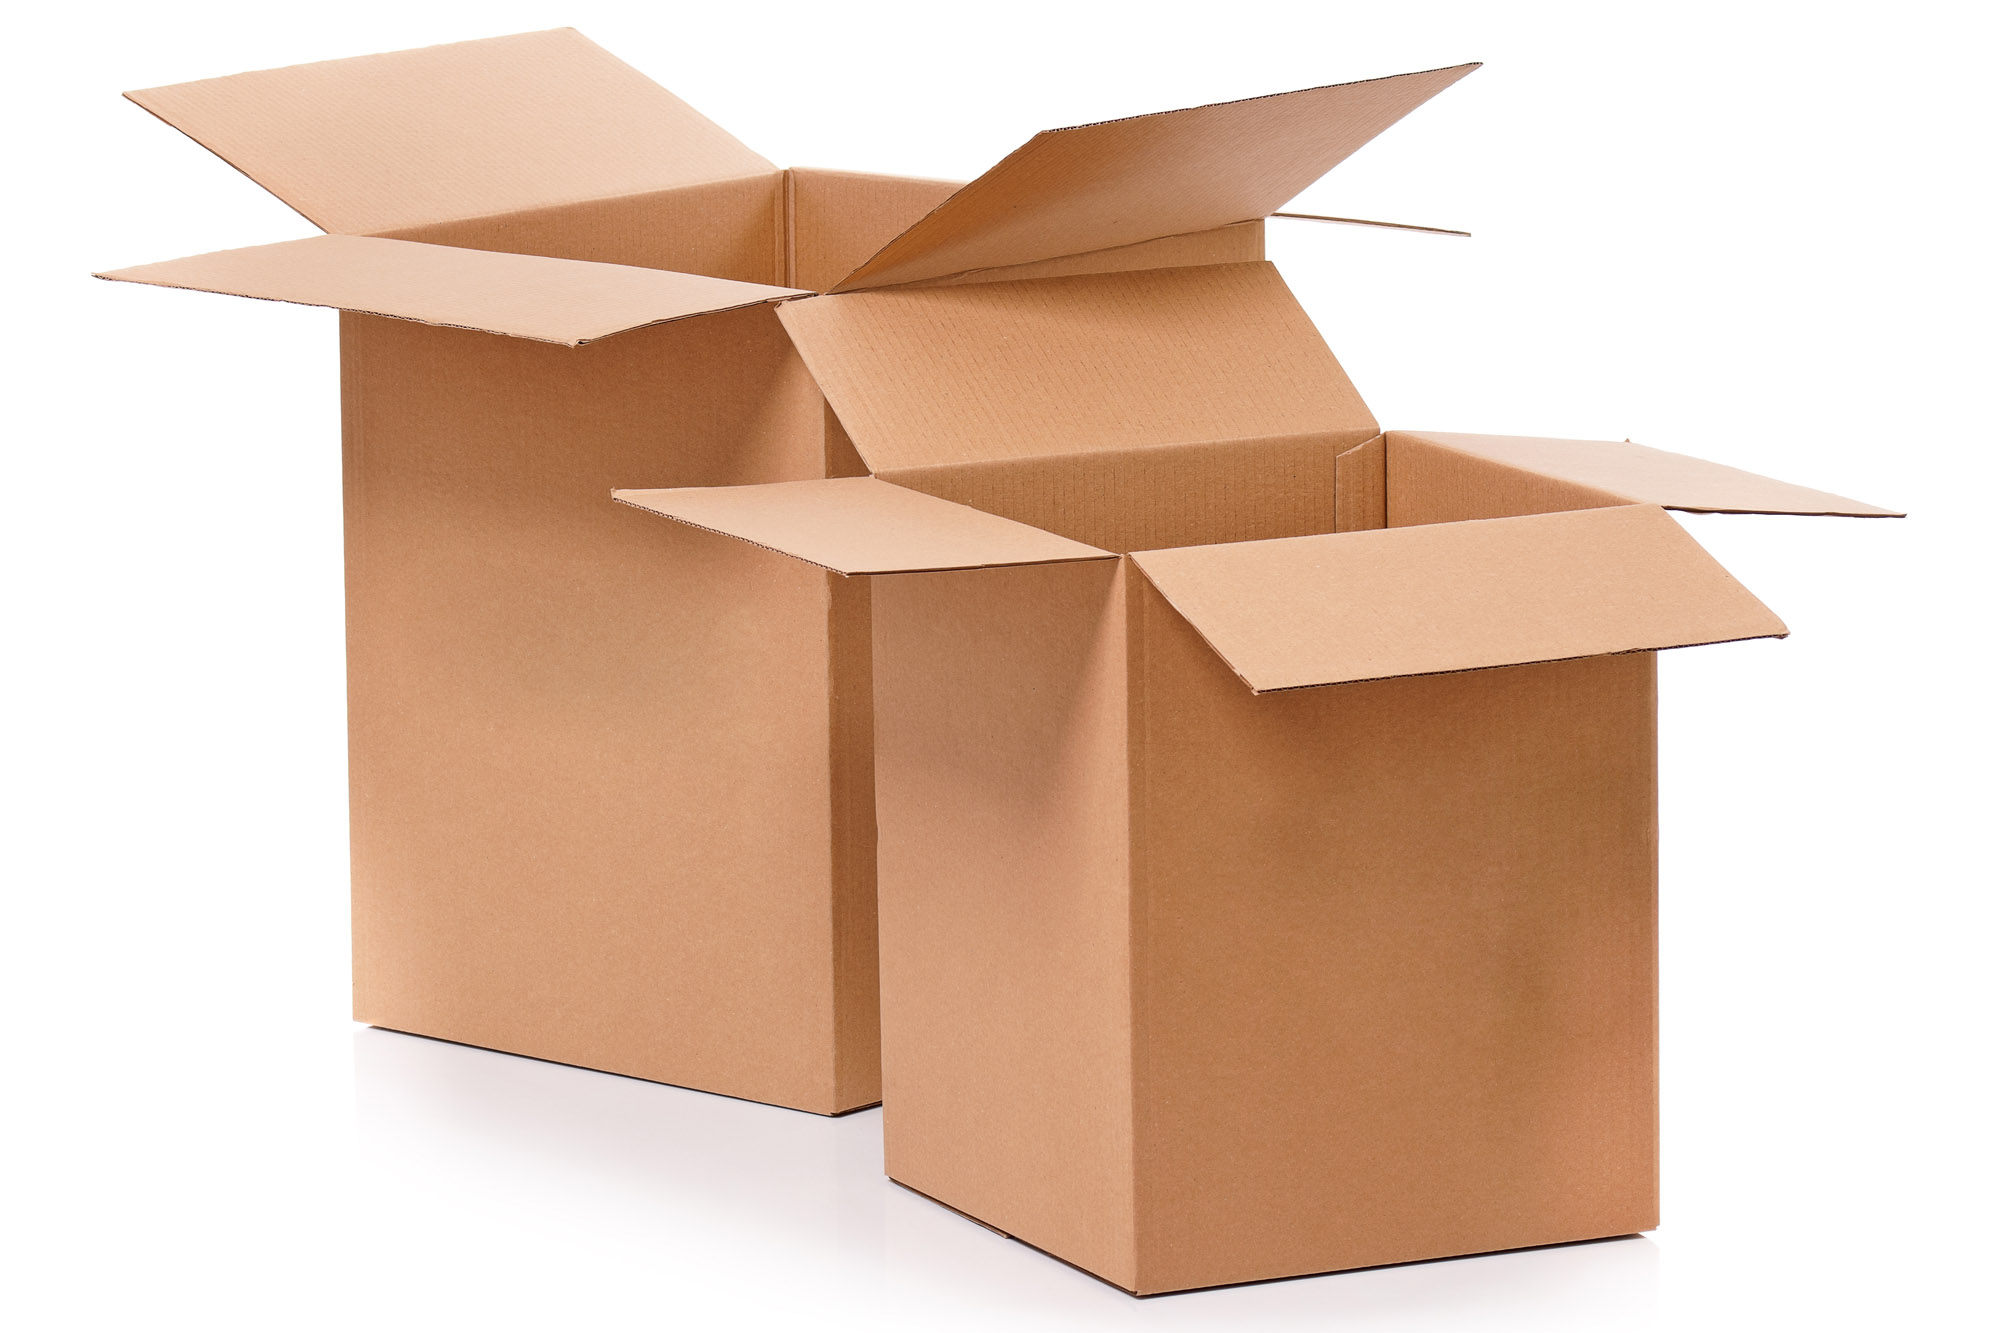Rec_Paper: (91, 28, 1514, 1154), (604, 301, 1924, 1300)
